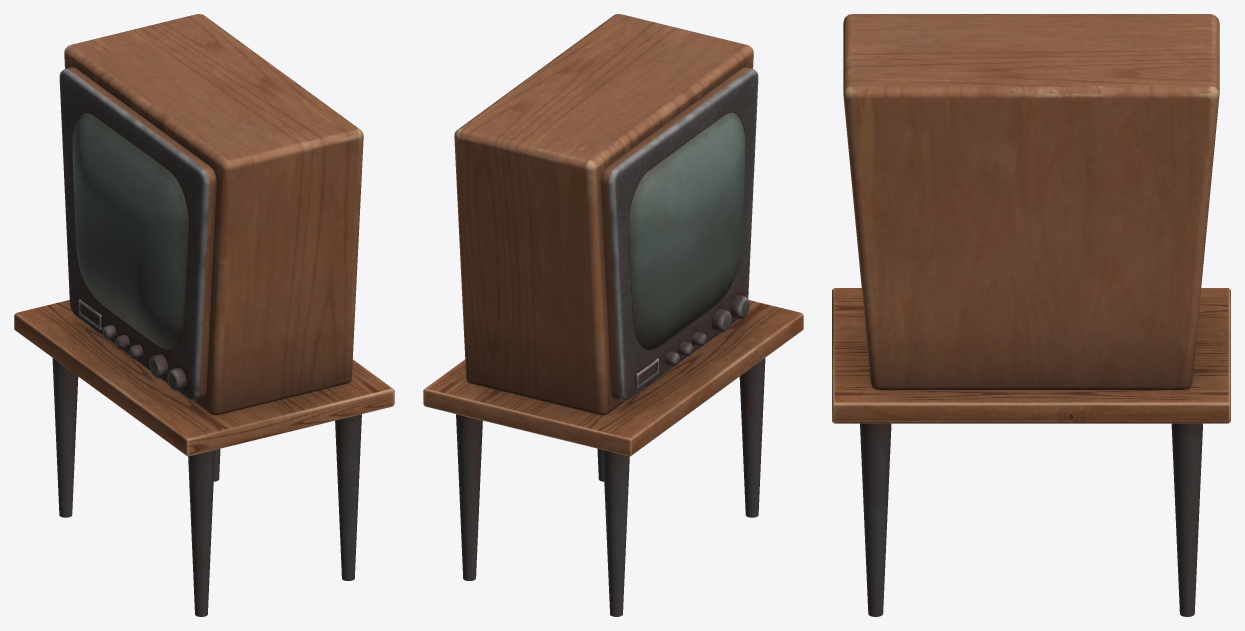
Rendered from SM_TVSet.fbx.
3 renders of one model, left to right at view 1: azimuth 30°, elevation 25°; view 2: azimuth 150°, elevation 25°; view 3: azimuth 270°, elevation 25°, orthographic. The views are drawn at different scales.
Visible parts, largest first — view 1: SM_TVSet_LOD0; view 2: SM_TVSet_LOD0; view 3: SM_TVSet_LOD0.
Boxes of the visible parts, x1,y1,x2,y2 form: SM_TVSet_LOD0: (14, 14, 394, 616); SM_TVSet_LOD0: (423, 14, 803, 616); SM_TVSet_LOD0: (832, 14, 1230, 616).
Bounding box in the file's own units: 53.91 × 77.74 × 113.
1 material, 1 textured.
